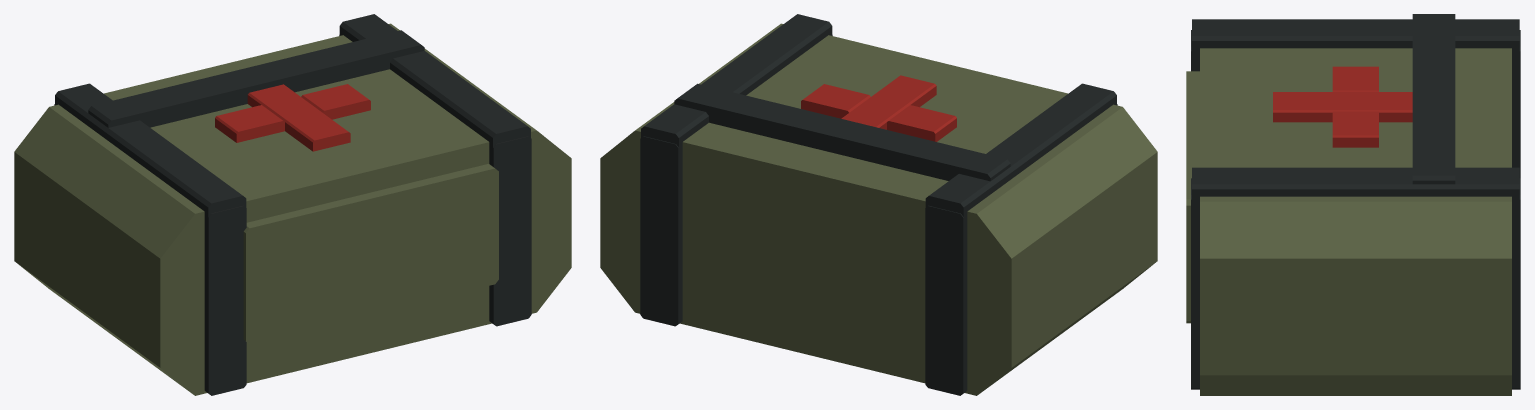
The model's file is FieldMedkit.gltf.
3 renders of one model, left to right at view 1: azimuth 30°, elevation 25°; view 2: azimuth 150°, elevation 25°; view 3: azimuth 270°, elevation 25°, orthographic. The views are drawn at different scales.
Parts seen in each view (by area): view 1: FieldMedkit; view 2: FieldMedkit; view 3: FieldMedkit.
Boxes of the visible parts, <box> form: FieldMedkit: <box>14,14,571,395</box>; FieldMedkit: <box>600,14,1157,395</box>; FieldMedkit: <box>1186,14,1520,395</box>.
Size of the model in its own units: 0.26 by 0.12 by 0.1715.
